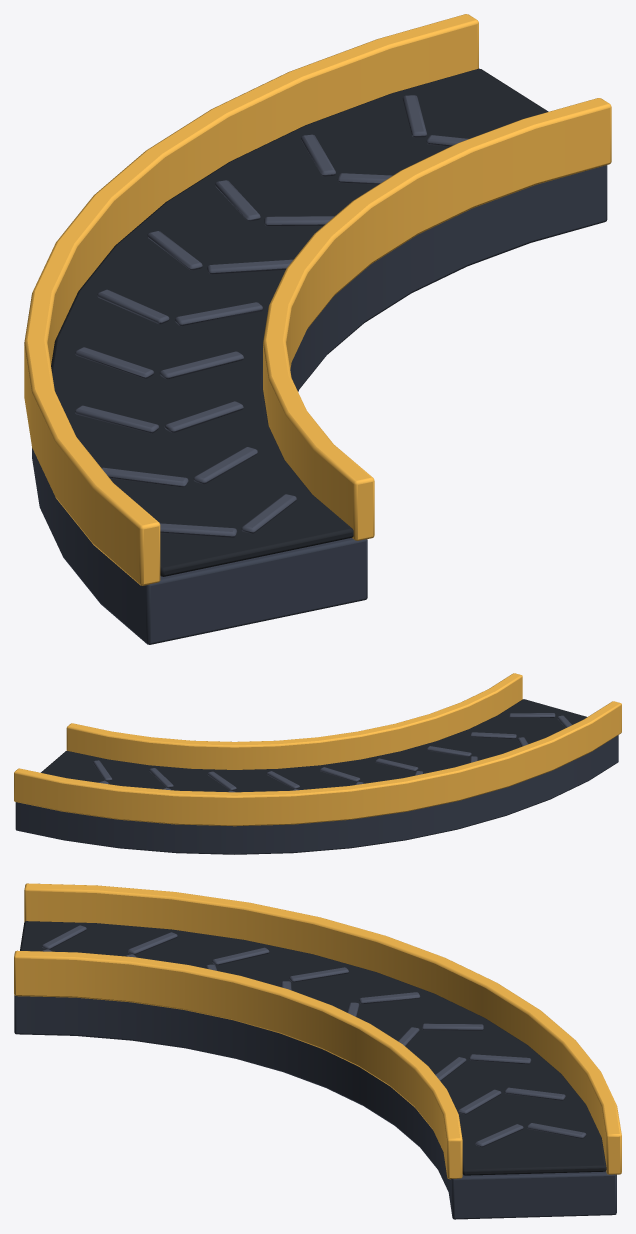
Rendered from band_kurve_90_r3.fbx.
3 renders of one model, top to bottom at view 1: azimuth 30°, elevation 25°; view 2: azimuth 150°, elevation 25°; view 3: azimuth 270°, elevation 25°, orthographic. The views are drawn at different scales.
Parts seen in each view (by area): view 1: band_kurve_90_r3_Koerper; view 2: band_kurve_90_r3_Koerper; view 3: band_kurve_90_r3_Koerper.
Part boxes in pixels (x1=…): band_kurve_90_r3_Koerper: x1=24, y1=14, x2=611, y2=644; band_kurve_90_r3_Koerper: x1=14, y1=673, x2=621, y2=854; band_kurve_90_r3_Koerper: x1=14, y1=883, x2=621, y2=1219.
Size of the model in its own units: 3.54 by 0.52 by 3.54.
